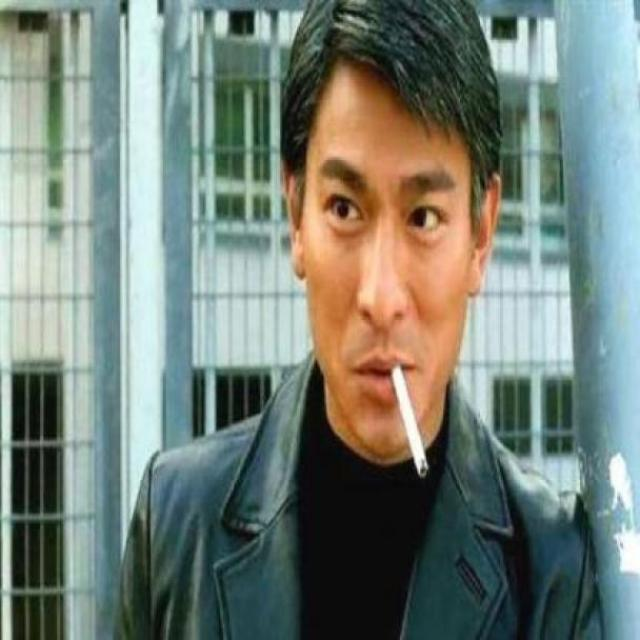rokok: (386, 356, 434, 482)
